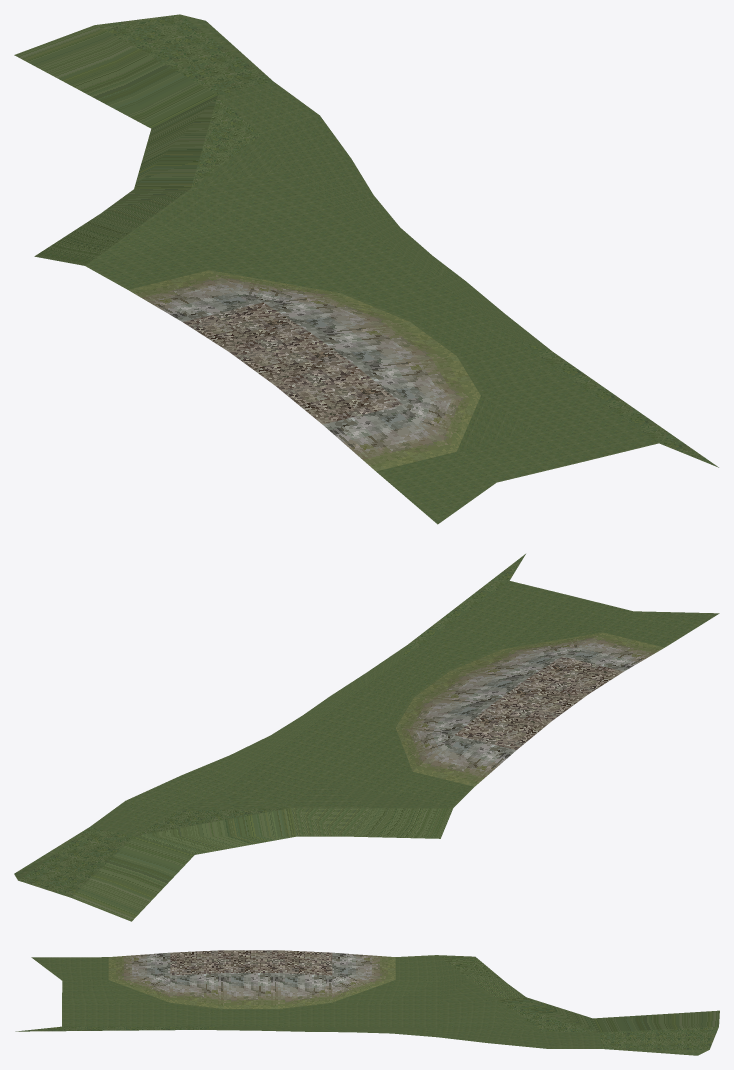
Rendered from lodassedge24.obj.
3 renders of one model, top to bottom at view 1: azimuth 30°, elevation 25°; view 2: azimuth 150°, elevation 25°; view 3: azimuth 270°, elevation 25°, orthographic. The views are drawn at different scales.
Parts seen in each view (by area): view 1: lodasSedge24; view 2: lodasSedge24; view 3: lodasSedge24.
Part boxes in pixels (x1,y1,x2,y2): lodasSedge24: [14, 14, 718, 524]; lodasSedge24: [14, 554, 719, 921]; lodasSedge24: [15, 950, 719, 1055].
Bounding box in the file's own units: 90.1 × 5.49 × 262.
4 materials, 4 textured.
